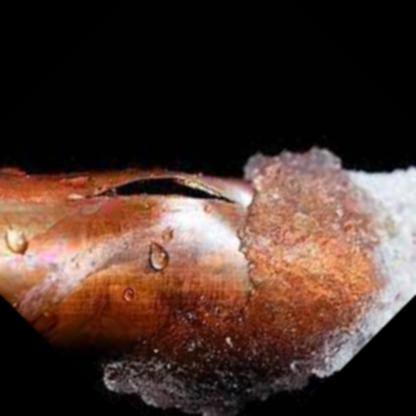burst: (102, 160, 230, 226)
